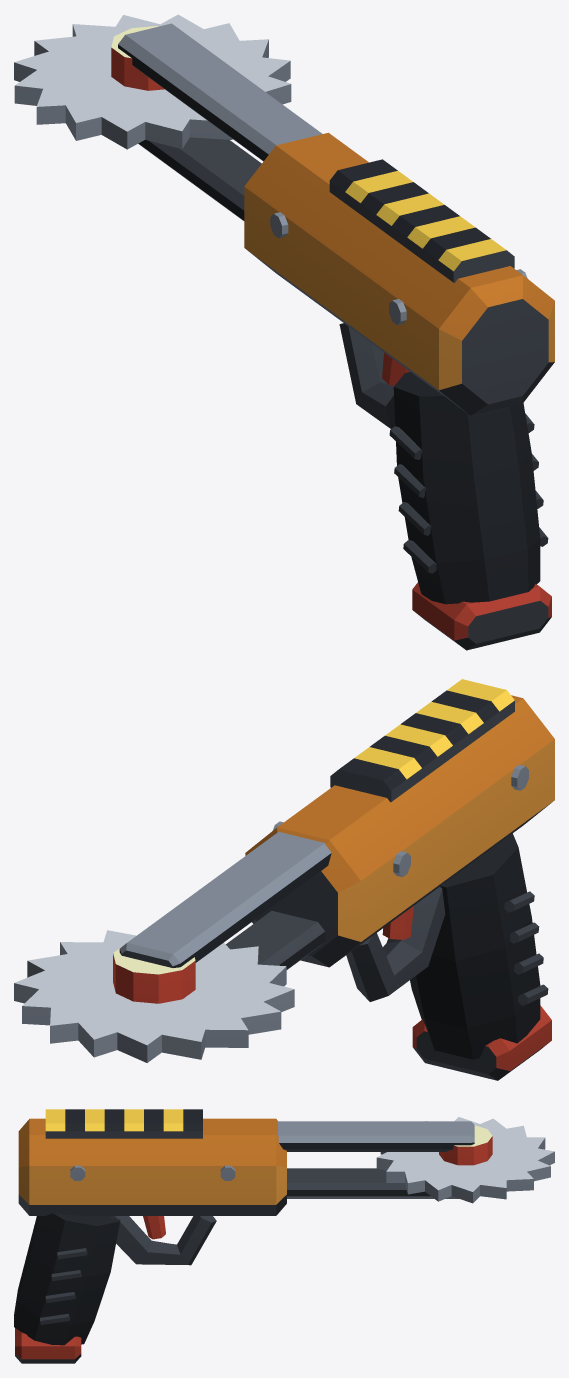
File: SawLauncher.fbx
3 renders of one model, top to bottom at view 1: azimuth 30°, elevation 25°; view 2: azimuth 150°, elevation 25°; view 3: azimuth 270°, elevation 25°, orthographic. The views are drawn at different scales.
Visible parts, largest first — view 1: Body, Grip, Blade, Arms, HazardRail, GripHeel, Guard, GripRibs, Hub, Bolts; view 2: Body, Blade, Grip, Arms, HazardRail, Guard, GripHeel, Hub, GripRibs, Bolts; view 3: Body, Grip, Arms, Blade, HazardRail, Guard, GripHeel, Hub, GripRibs, Bolts.
Boxes of the visible parts, x1=… form: Body: x1=244, y1=132, x2=554, y2=415; Grip: x1=393, y1=372, x2=540, y2=604; Blade: x1=14, y1=14, x2=291, y2=149; Arms: x1=118, y1=23, x2=322, y2=220; HazardRail: x1=329, y1=159, x2=514, y2=283; GripHeel: x1=412, y1=582, x2=551, y2=650; Guard: x1=339, y1=323, x2=411, y2=428; GripRibs: x1=389, y1=413, x2=548, y2=573; Hub: x1=111, y1=26, x2=164, y2=90; Bolts: x1=270, y1=212, x2=527, y2=325; Body: x1=245, y1=695, x2=554, y2=967; Blade: x1=14, y1=930, x2=294, y2=1062; Grip: x1=410, y1=833, x2=540, y2=1059; Arms: x1=119, y1=832, x2=331, y2=969; HazardRail: x1=330, y1=679, x2=514, y2=802; Guard: x1=346, y1=883, x2=445, y2=1001; GripHeel: x1=412, y1=1005, x2=551, y2=1080; Hub: x1=113, y1=947, x2=195, y2=1003; GripRibs: x1=504, y1=891, x2=548, y2=1005; Bolts: x1=272, y1=764, x2=528, y2=876; Body: x1=18, y1=1118, x2=286, y2=1215; Grip: x1=14, y1=1213, x2=120, y2=1345; Arms: x1=278, y1=1121, x2=474, y2=1198; Blade: x1=376, y1=1117, x2=554, y2=1203; HazardRail: x1=45, y1=1109, x2=202, y2=1138; Guard: x1=110, y1=1216, x2=216, y2=1265; GripHeel: x1=15, y1=1328, x2=81, y2=1363; Hub: x1=439, y1=1125, x2=492, y2=1165; GripRibs: x1=40, y1=1248, x2=87, y2=1324; Bolts: x1=70, y1=1165, x2=235, y2=1180.
Bounding box in the file's own units: 0.1994 × 0.291 × 0.605.
Materials: 1 (1 with a texture image).
